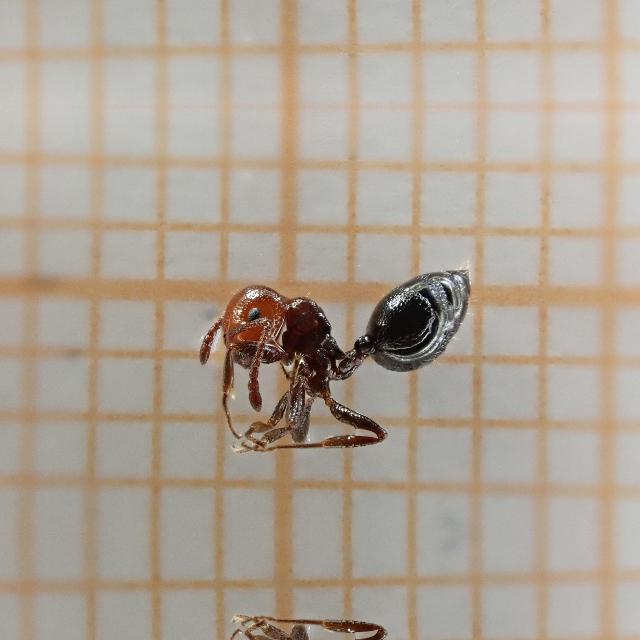Crematogaster: (180, 255, 484, 463)
